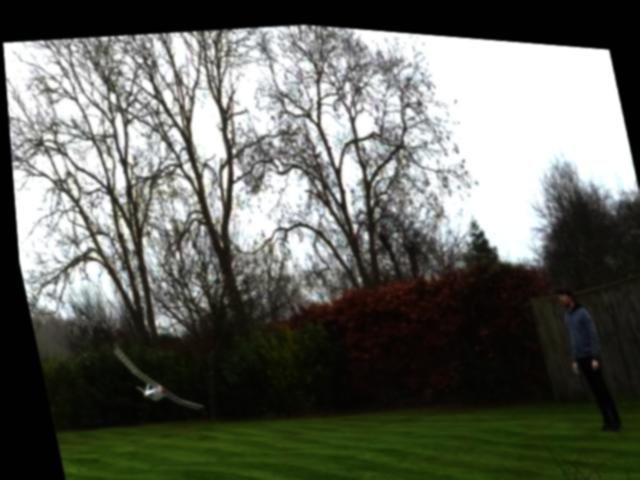uav: (95, 322, 210, 430)
